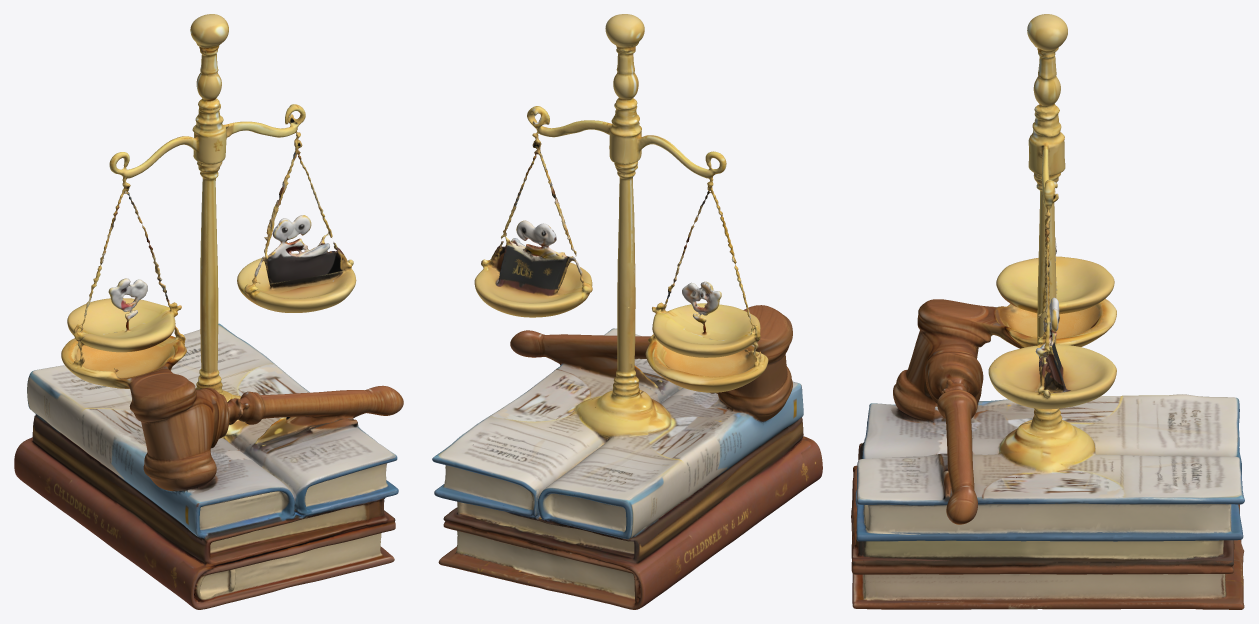
Rendered from law.glb.
3 renders of one model, left to right at view 1: azimuth 30°, elevation 25°; view 2: azimuth 150°, elevation 25°; view 3: azimuth 270°, elevation 25°, orthographic. The views are drawn at different scales.
Bounding box in the file's own units: 39701 × 65615 × 43041.
Materials: 1 (1 with a texture image).
